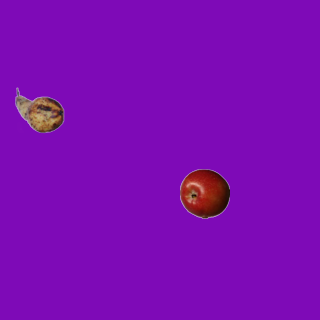Apple Braeburn: (179, 168, 229, 218)
Pear Abate: (14, 85, 64, 135)
